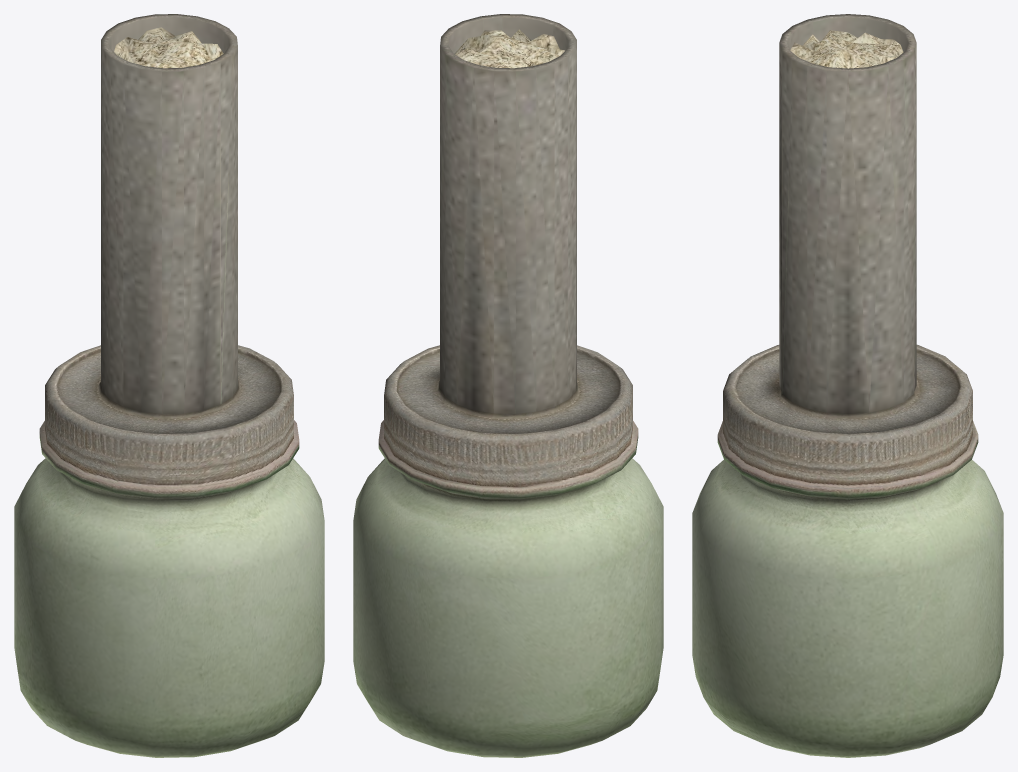
File: DryingColumn.fbx
The picture shows the model from 3 angles, left to right: view 1: azimuth 30°, elevation 25°; view 2: azimuth 150°, elevation 25°; view 3: azimuth 270°, elevation 25°; orthographic projection.
Parts seen in each view (by area): view 1: tripo_node_56d1d910; view 2: tripo_node_56d1d910; view 3: tripo_node_56d1d910.
Boxes of the visible parts, left/top/right/bottom form: tripo_node_56d1d910: left=14, top=14, right=324, bottom=757; tripo_node_56d1d910: left=353, top=14, right=663, bottom=757; tripo_node_56d1d910: left=692, top=14, right=1003, bottom=757.
Size of the model in its own units: 0.4253 by 0.9995 by 0.4253.
